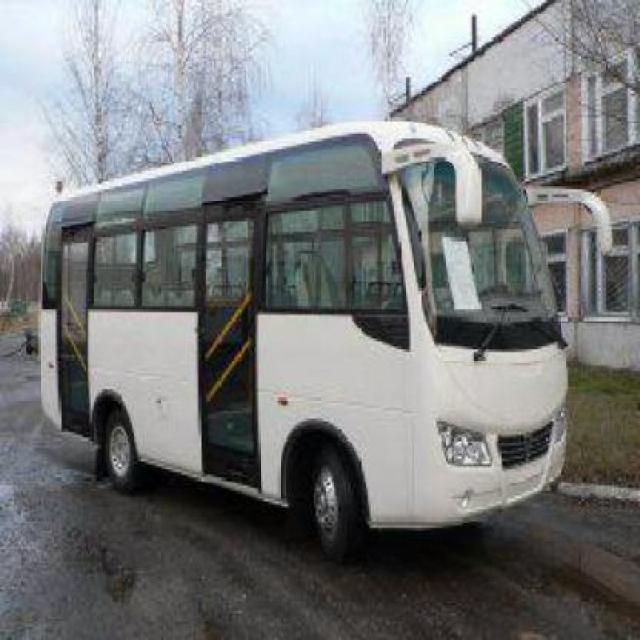bus: (39, 118, 566, 550)
